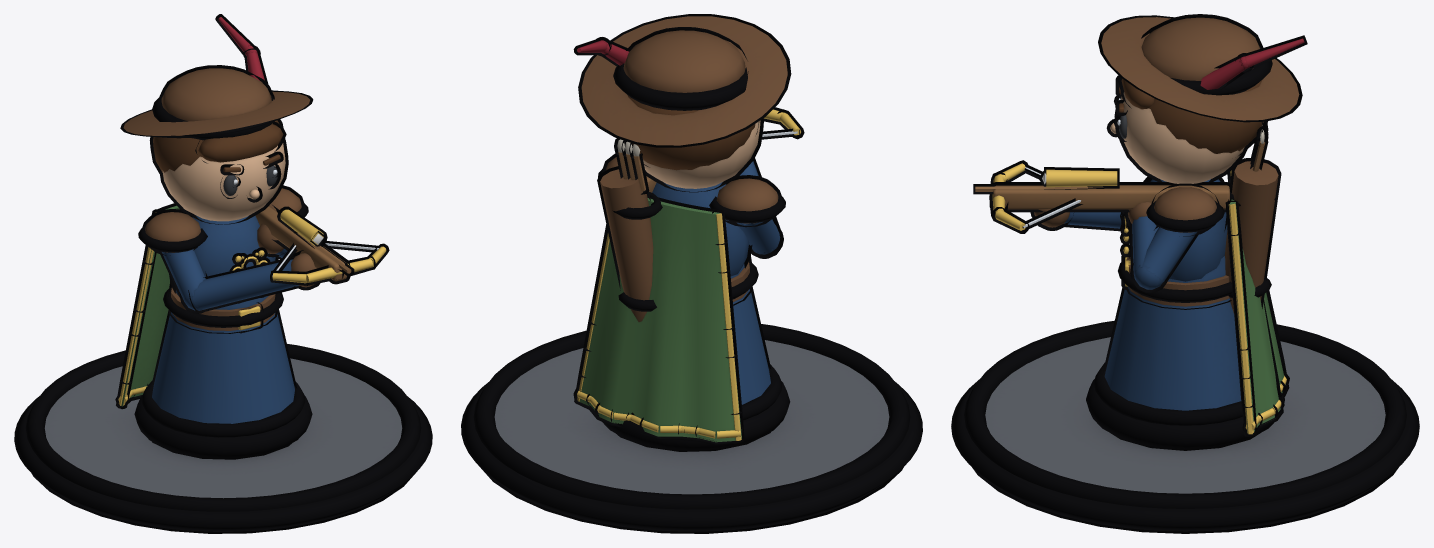
Rendered from marksman_s3.fbx.
The picture shows the model from 3 angles, left to right: view 1: azimuth 30°, elevation 25°; view 2: azimuth 150°, elevation 25°; view 3: azimuth 270°, elevation 25°; orthographic projection. The views are drawn at different scales.
Visible parts, largest first — view 1: marksman_s3; view 2: marksman_s3; view 3: marksman_s3.
Part boxes in pixels (bbox=[...]): marksman_s3: bbox=[14, 14, 432, 533]; marksman_s3: bbox=[461, 14, 922, 533]; marksman_s3: bbox=[951, 14, 1419, 533].
Bounding box in the file's own units: 1.58 × 1.61 × 1.58.
2 materials, 1 textured.
